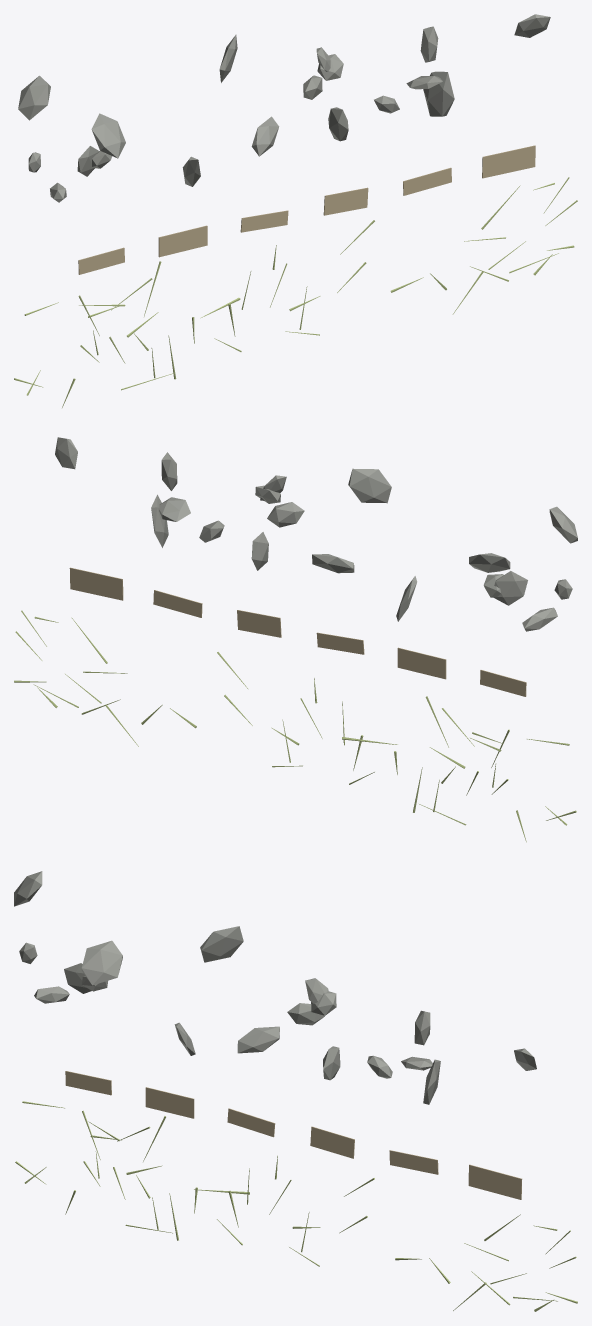
File: hl-shoreline-kit-v1.glb
3 renders of one model, top to bottom at view 1: azimuth 30°, elevation 25°; view 2: azimuth 150°, elevation 25°; view 3: azimuth 330°, elevation 25°, orthographic.
Visible parts, largest first — view 1: HL sand edge piece 05, HL sand edge piece 01, HL low poly rock 06, HL low poly rock 09, HL low poly rock 02, HL sand edge piece 03, HL sand edge piece 04, HL sand edge piece 00, HL sand edge piece 02, HL low poly rock 07, HL low poly rock 04, HL low poly rock 14 (+1 smaller); view 2: HL low poly rock 03, HL sand edge piece 05, HL sand edge piece 01, HL sand edge piece 03, HL low poly rock 05, HL sand edge piece 04, HL sand edge piece 00, HL sand edge piece 02, HL low poly rock 13, HL low poly rock 06, HL low poly rock 07, HL low poly rock 11 (+3 smaller); view 3: HL low poly rock 06, HL sand edge piece 05, HL low poly rock 03, HL sand edge piece 01, HL sand edge piece 03, HL low poly rock 07, HL sand edge piece 04, HL sand edge piece 00, HL sand edge piece 02, HL low poly rock 02.
Part boxes in pixels (left/top/right/bottom): HL sand edge piece 05: left=482, top=145, right=535, bottom=178; HL sand edge piece 01: left=158, top=225, right=207, bottom=257; HL low poly rock 06: left=91, top=113, right=125, bottom=158; HL low poly rock 09: left=423, top=71, right=454, bottom=116; HL low poly rock 02: left=18, top=75, right=50, bottom=120; HL sand edge piece 03: left=323, top=187, right=368, bottom=215; HL sand edge piece 04: left=403, top=167, right=451, bottom=195; HL sand edge piece 00: left=78, top=247, right=124, bottom=274; HL sand edge piece 02: left=240, top=210, right=288, bottom=232; HL low poly rock 07: left=251, top=116, right=279, bottom=156; HL low poly rock 04: left=514, top=14, right=550, bottom=37; HL low poly rock 14: left=328, top=107, right=348, bottom=141; HL low poly rock 03: left=348, top=468, right=391, bottom=503; HL sand edge piece 05: left=69, top=567, right=123, bottom=600; HL sand edge piece 01: left=397, top=647, right=446, bottom=679; HL sand edge piece 03: left=237, top=610, right=281, bottom=637; HL low poly rock 05: left=494, top=571, right=527, bottom=605; HL sand edge piece 04: left=153, top=590, right=202, bottom=617; HL sand edge piece 00: left=480, top=670, right=526, bottom=696; HL sand edge piece 02: left=316, top=632, right=364, bottom=654; HL low poly rock 13: left=267, top=502, right=304, bottom=527; HL low poly rock 06: left=469, top=553, right=510, bottom=572; HL low poly rock 07: left=312, top=554, right=354, bottom=573; HL low poly rock 11: left=159, top=497, right=190, bottom=521; HL low poly rock 06: left=81, top=940, right=122, bottom=985; HL sand edge piece 05: left=468, top=1164, right=522, bottom=1199; HL low poly rock 03: left=200, top=926, right=243, bottom=962; HL sand edge piece 01: left=145, top=1087, right=194, bottom=1118; HL sand edge piece 03: left=310, top=1126, right=354, bottom=1158; HL low poly rock 07: left=237, top=1026, right=279, bottom=1053; HL sand edge piece 04: left=389, top=1150, right=438, bottom=1174; HL sand edge piece 00: left=65, top=1071, right=111, bottom=1095; HL sand edge piece 02: left=227, top=1108, right=275, bottom=1137; HL low poly rock 02: left=14, top=871, right=42, bottom=906.
Size of the model in its own units: 49.75 by 28.69 by 3.19.
